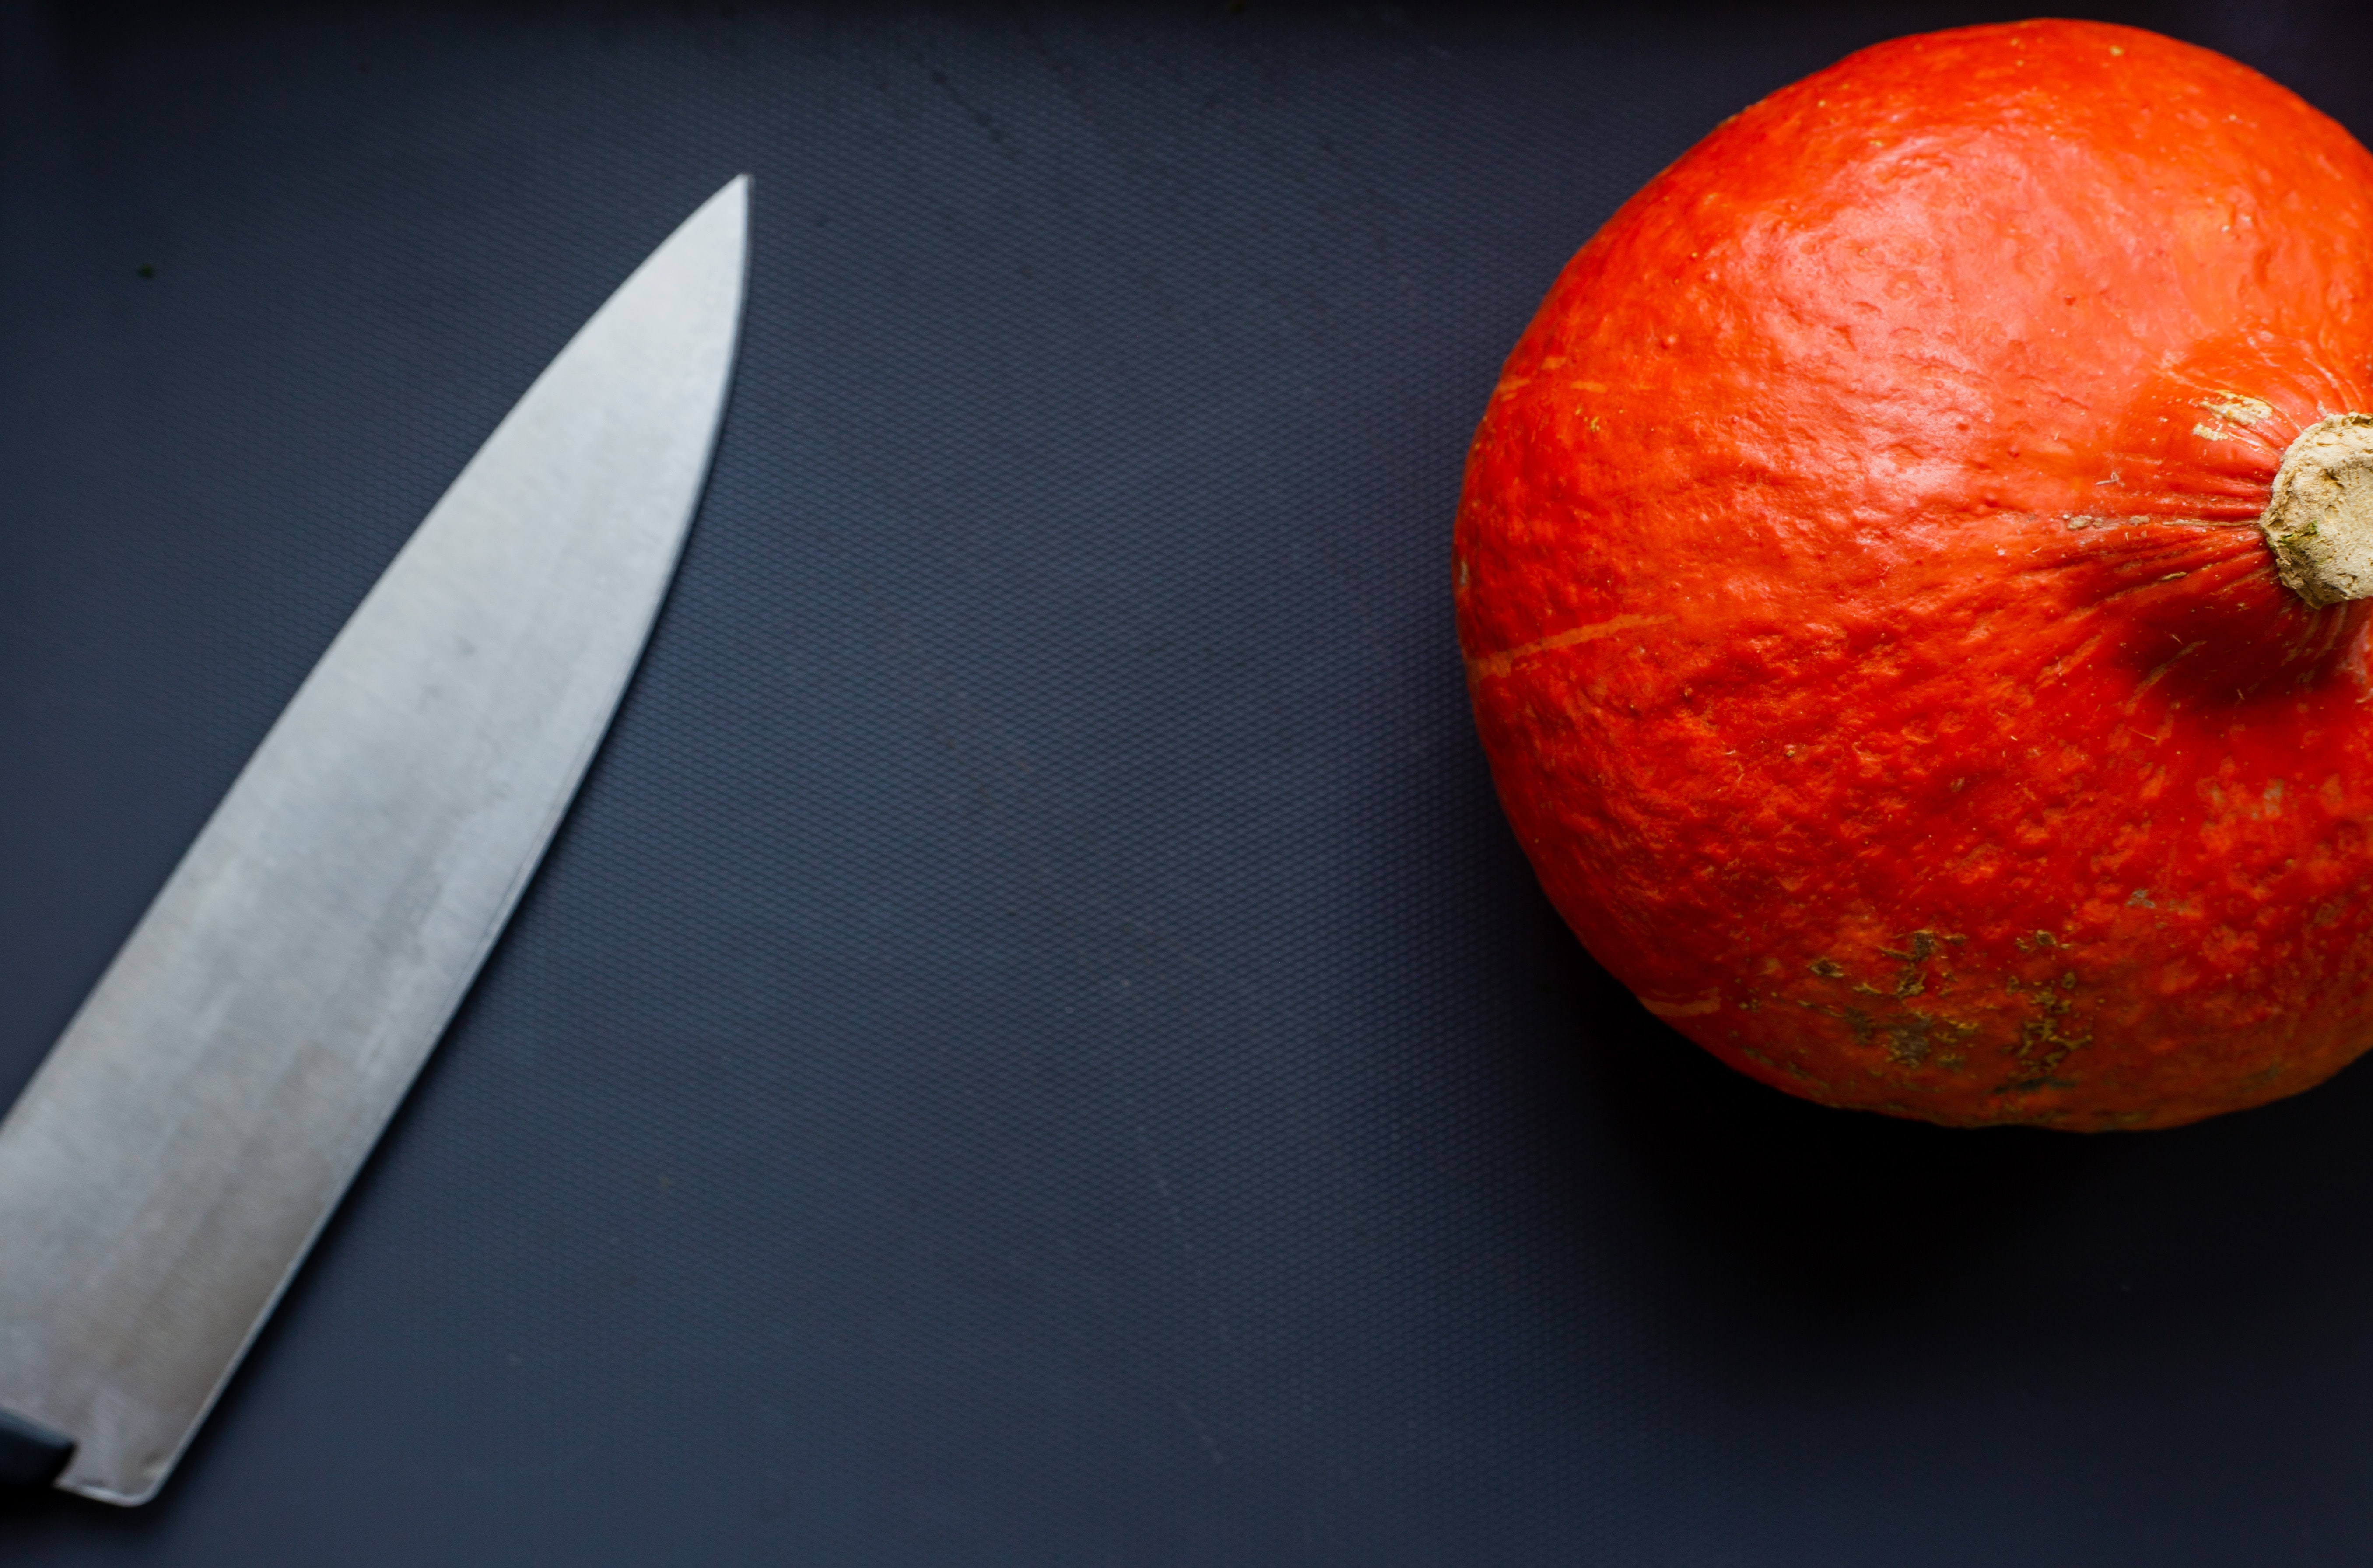knife: (0, 140, 791, 1549)
